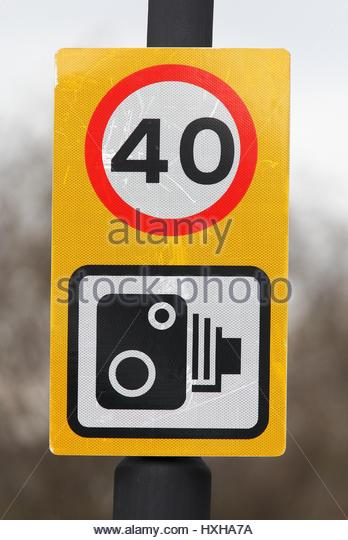Speed_limit_40km: (84, 64, 258, 229)
